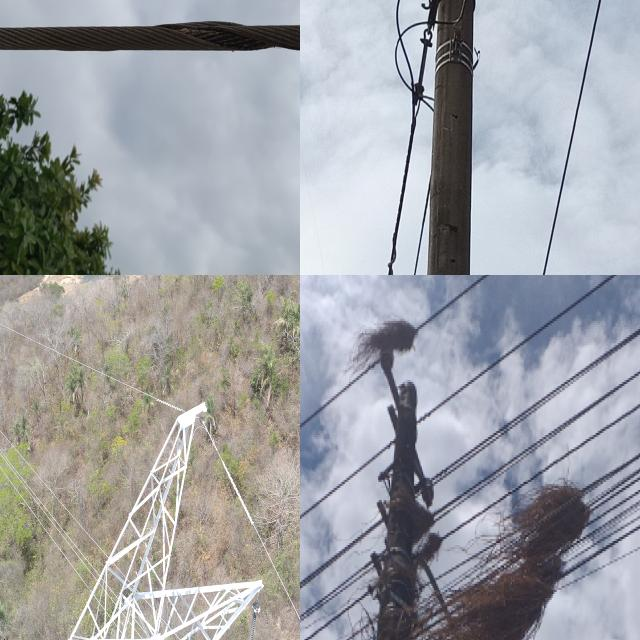杆塔: (0, 396, 266, 640)
植被遮挡: (392, 483, 594, 640), (342, 319, 420, 379)
正常绝缘子: (230, 604, 272, 640)
